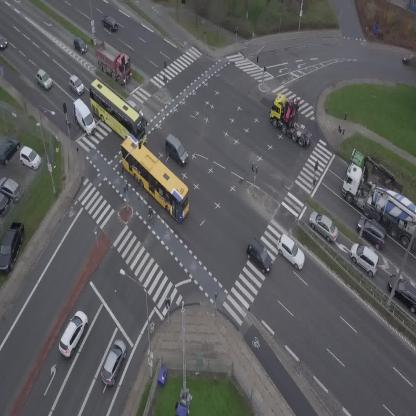bicycle: (146, 207, 154, 222)
bus: (109, 133, 202, 223), (77, 77, 156, 150)
car: (54, 308, 92, 359), (271, 231, 312, 273), (351, 212, 394, 252), (98, 337, 131, 387), (344, 239, 385, 278), (304, 207, 344, 246), (242, 238, 279, 275), (158, 132, 194, 167), (31, 68, 54, 92), (65, 73, 87, 96), (68, 35, 90, 57), (98, 12, 121, 33), (128, 98, 145, 116), (404, 52, 416, 64), (0, 32, 7, 49)
lorry: (261, 90, 325, 149), (347, 146, 408, 199), (86, 37, 140, 88), (67, 96, 99, 138)
